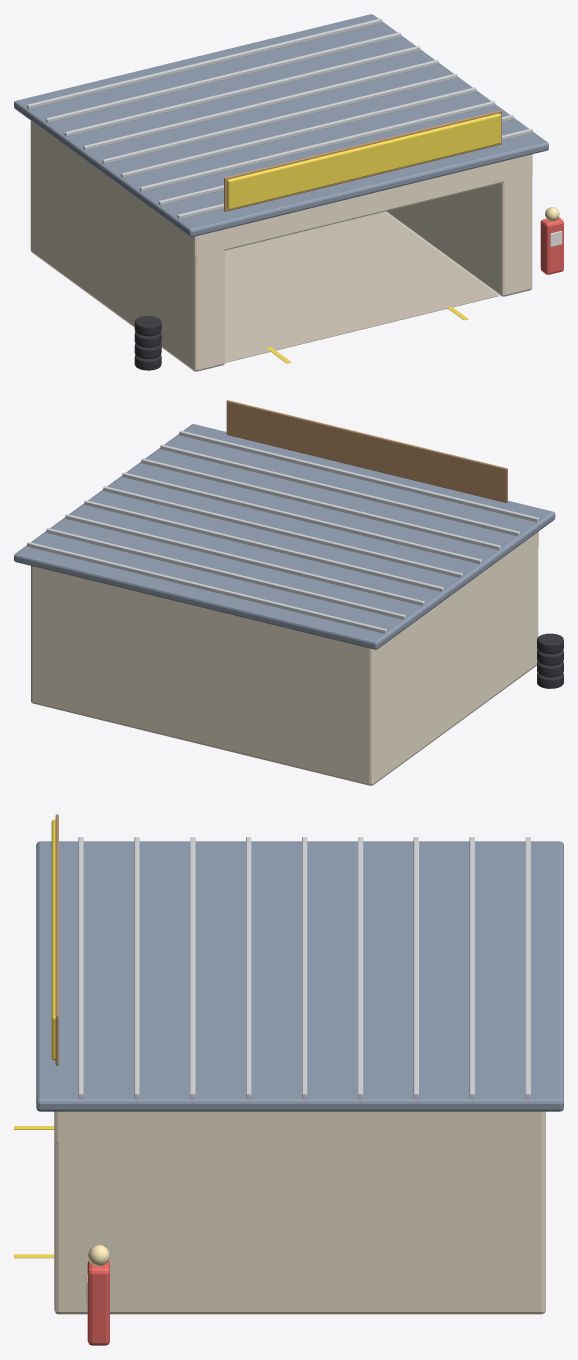
File: motors.fbx
3 views of the same model, one above another, from view 1: azimuth 30°, elevation 25°; view 2: azimuth 150°, elevation 25°; view 3: azimuth 270°, elevation 25° (orthographic). The views are drawn at different scales.
Parts seen in each view (by area): view 1: Visual; view 2: Visual; view 3: Visual.
Part boxes in pixels (bbox=[...]): Visual: bbox=[14, 14, 563, 371]; Visual: bbox=[14, 400, 563, 785]; Visual: bbox=[14, 814, 563, 1345].
Size of what is drawn, in the model's own units: 1620 by 688 by 1230.
